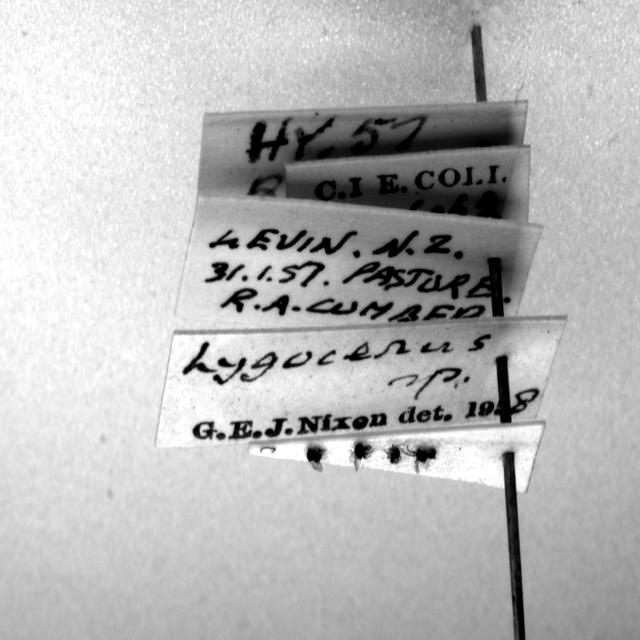hand_label: (175, 197, 541, 328)
mixed_label: (155, 317, 566, 448)
